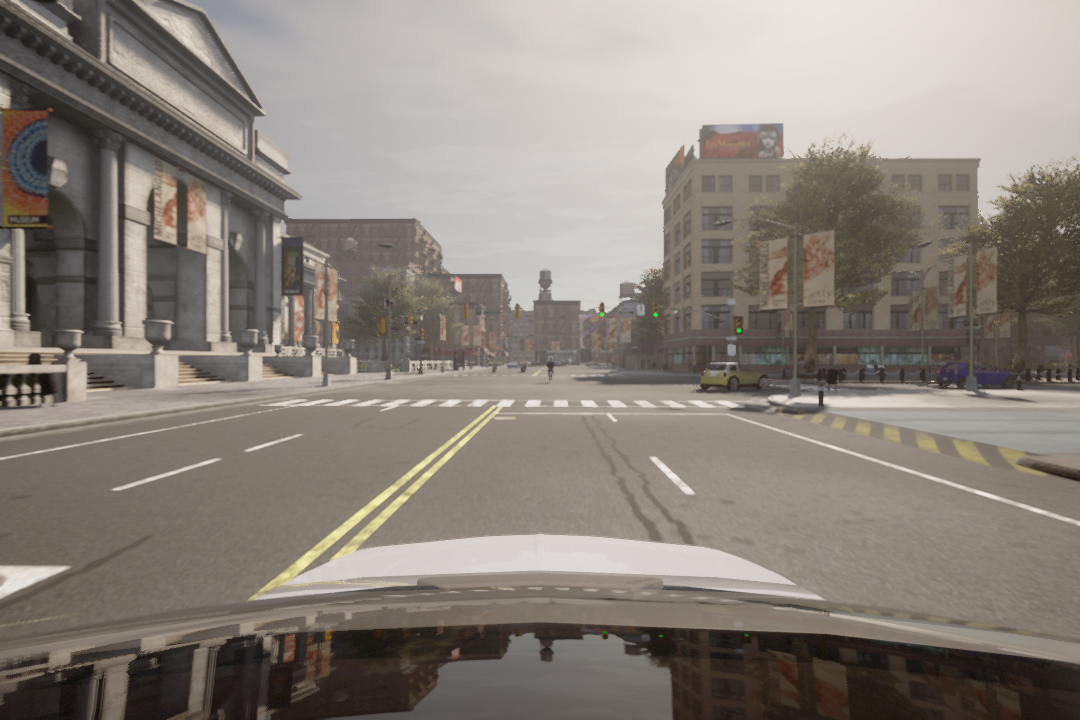TrafficLight: (647, 301, 661, 321), (733, 316, 743, 334), (597, 304, 605, 317)
walkside: (262, 397, 750, 411)
